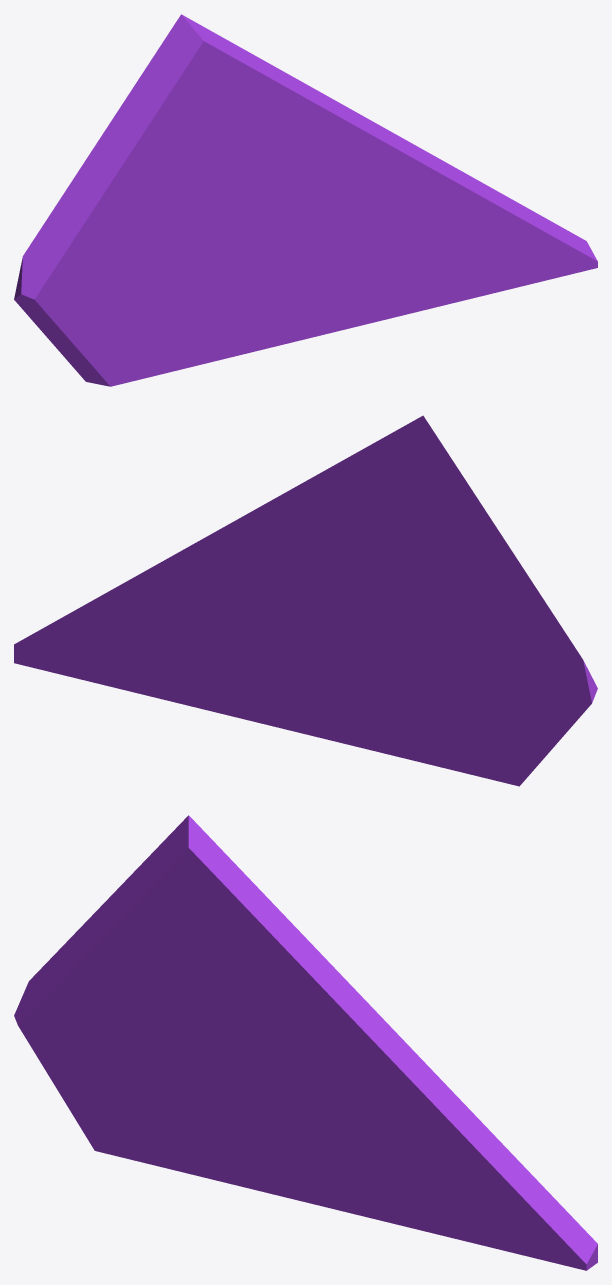
Rendered from Window_6_12_chunks.fbx.
3 renders of one model, top to bottom at view 1: azimuth 30°, elevation 25°; view 2: azimuth 150°, elevation 25°; view 3: azimuth 330°, elevation 25°, orthographic.
Parts seen in each view (by area): view 1: Window_6_12_3, Window_6_12_2, Window_6_12_0, Window_6_12_1; view 2: Window_6_12_2, Window_6_12_3, Window_6_12_0, Window_6_12_1; view 3: Window_6_12_2, Window_6_12_3, Window_6_12_0, Window_6_12_1.
Part boxes in pixels (<box>): Window_6_12_3: <box>62,14,358,256</box>; Window_6_12_2: <box>263,107,597,341</box>; Window_6_12_0: <box>14,247,293,386</box>; Window_6_12_1: <box>22,190,66,260</box>; Window_6_12_2: <box>14,509,353,738</box>; Window_6_12_3: <box>256,415,538,622</box>; Window_6_12_0: <box>325,661,597,786</box>; Window_6_12_1: <box>340,592,584,664</box>; Window_6_12_2: <box>249,990,597,1270</box>; Window_6_12_3: <box>49,815,355,1094</box>; Window_6_12_0: <box>14,985,279,1195</box>; Window_6_12_1: <box>27,936,72,987</box>.
Bounding box in the file's own units: 798 × 458 × 27.2.
